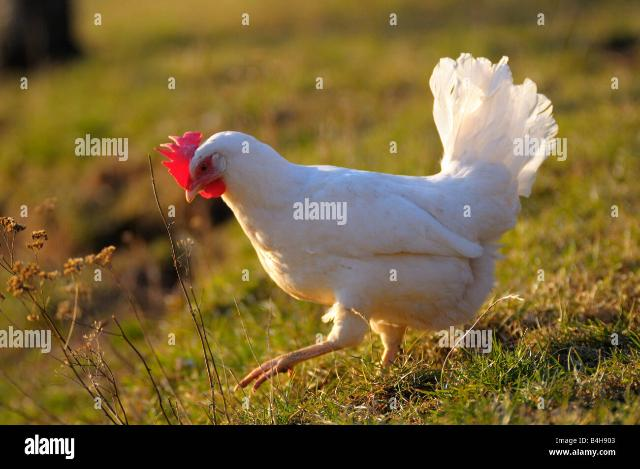Chicken: (157, 55, 557, 385)
